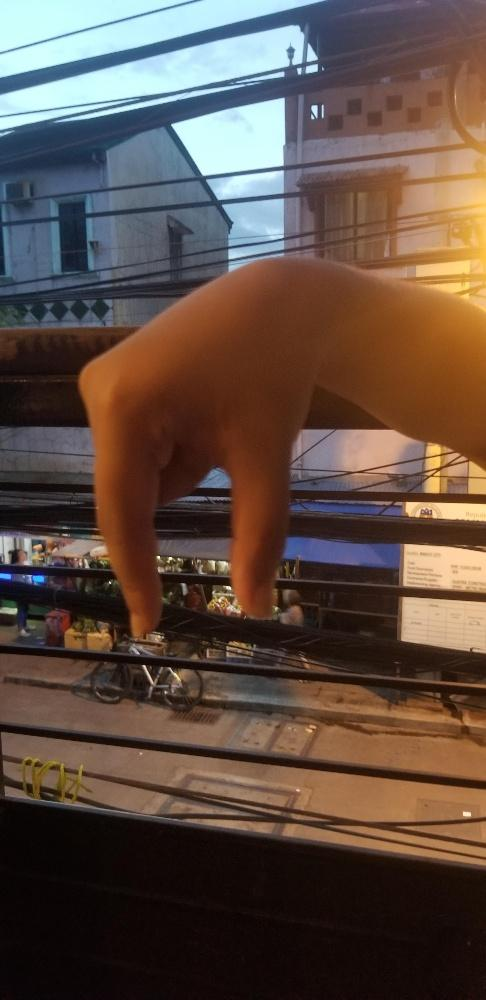q: (74, 254, 319, 644)
